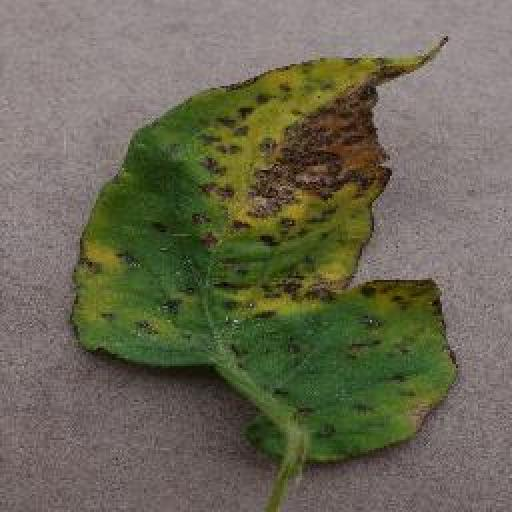Bacterial Spot: (54, 28, 471, 475)
